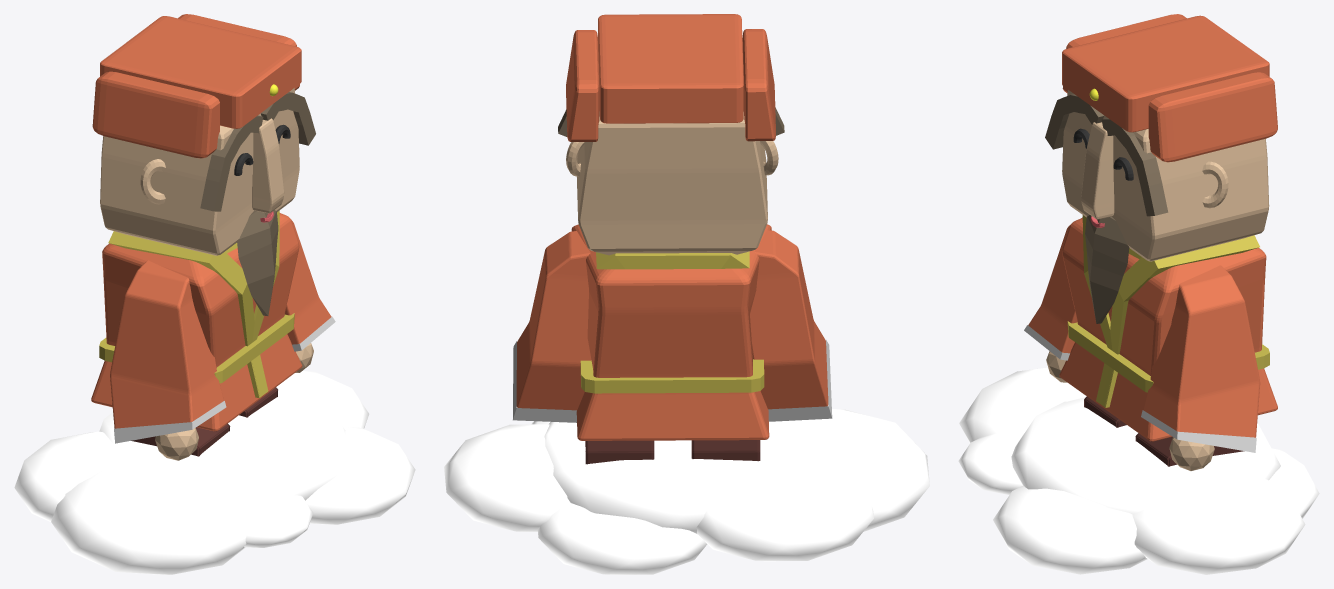
The model's file is god.glb.
3 renders of one model, left to right at view 1: azimuth 30°, elevation 25°; view 2: azimuth 150°, elevation 25°; view 3: azimuth 270°, elevation 25°, orthographic. The views are drawn at different scales.
Visible parts, largest first — view 1: cloud, Cube.048, Cube, Cube.043, Cube.042, Cube.049, Vert.006, Cube.040, Cube.044, Cube.045, Icosphere, Cube.046; view 2: cloud, Cube.042, Cube, Cube.048, Cube.043, Cube.044, Cube.046, Cube.049, Cube.045; view 3: cloud, Cube.048, Cube, Cube.043, Cube.042, Cube.049, Vert.006, Cube.040, Cube.044, Cube.045, Icosphere, Cube.046 (+1 smaller).
Part boxes in pixels (x1,y1,x2,y2): cloud: (14,371,415,574); Cube.048: (92,14,301,158); Cube: (100,88,299,255); Cube.043: (110,221,331,428); Cube.042: (91,213,302,431); Cube.049: (108,210,279,398); Vert.006: (200,92,315,211); Cube.040: (237,210,278,315); Cube.044: (99,313,294,383); Cube.045: (114,316,335,443); Icosphere: (155,343,313,460); Cube.046: (131,387,277,456); cloud: (444,409,929,574); Cube.042: (571,224,771,440); Cube: (566,111,778,255); Cube.048: (566,14,775,141); Cube.043: (516,230,828,410); Cube.044: (580,359,764,393); Cube.046: (585,440,760,464); Cube.049: (596,251,749,269); Cube.045: (513,340,832,422); cloud: (958,367,1319,574); Cube.048: (1062,14,1277,162); Cube: (1062,90,1269,261); Cube.043: (1028,217,1260,437); Cube.042: (1059,218,1277,441); Cube.049: (1082,215,1259,407); Vert.006: (1045,94,1168,216); Cube.040: (1085,215,1129,323); Cube.044: (1067,321,1269,392); Cube.045: (1024,325,1256,452); Icosphere: (1046,351,1214,470); Cube.046: (1084,396,1244,466).
Bounding box in the file's own units: 0.53 × 0.6419 × 0.4525.
